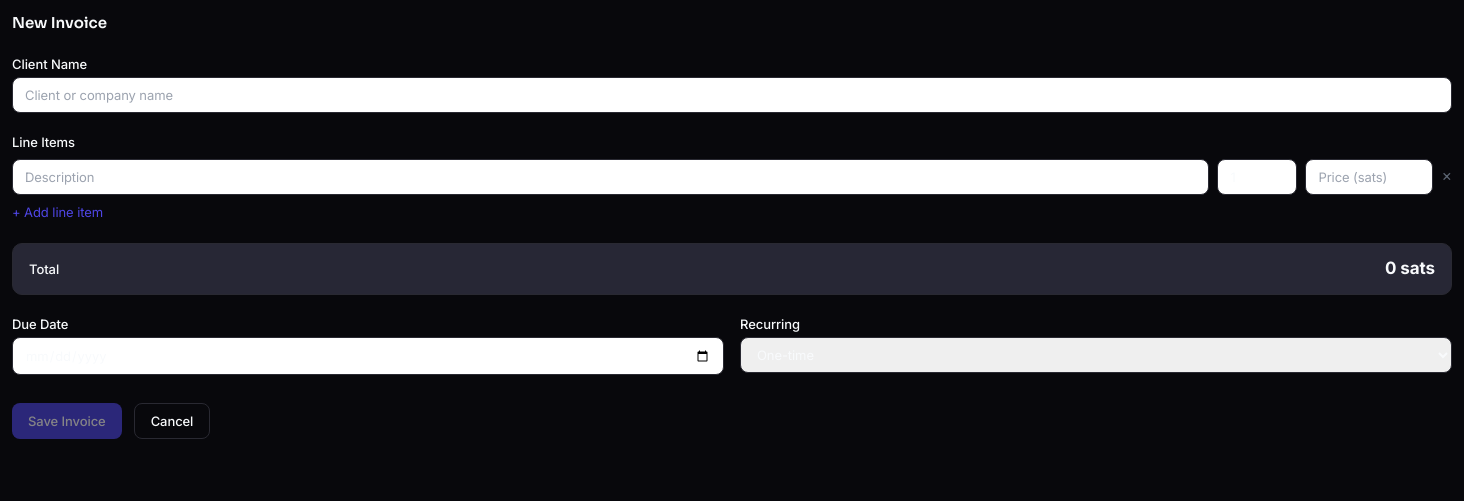
Scenario: InvoiceEditor › Adding line items › adds a second line item row when Add line item is clicked
The image size is (1464, 501).
Click the button "+ Add line item": (58,212) top-left (12, 203), bottom-right (103, 222)
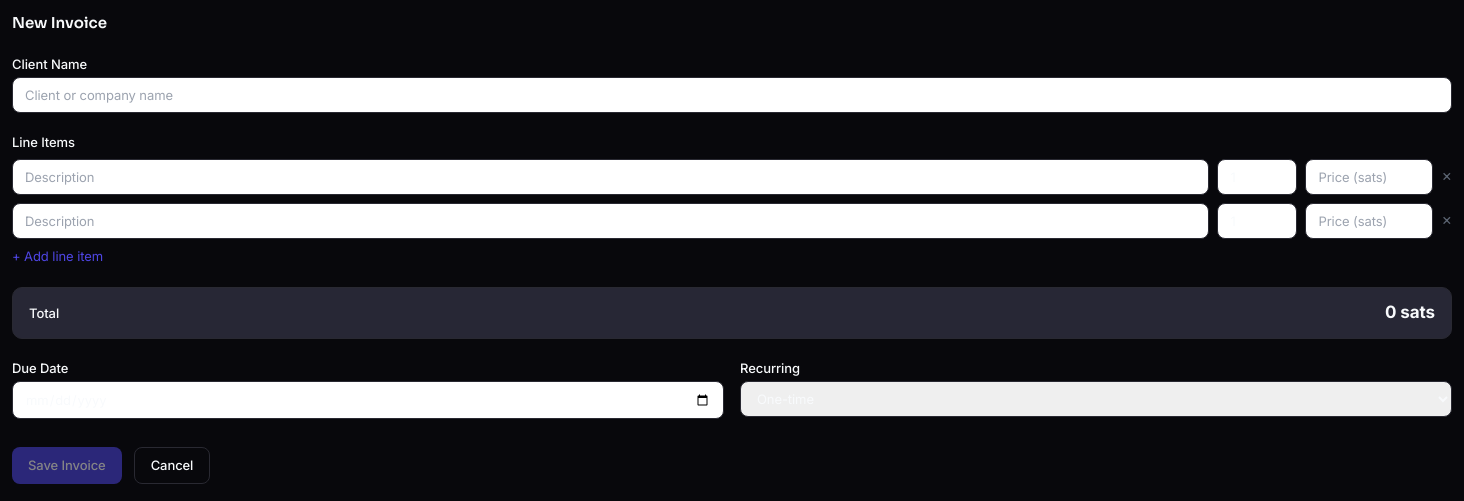
expect the field named "Line item 2 description" is shown: met, box top-left (12, 203), bottom-right (1209, 240)
expect the number field named "Line item 2 quantity" is shown: met, box top-left (1217, 203), bottom-right (1297, 240)
